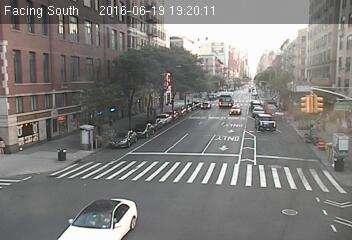neg: (11, 142, 45, 186), (8, 54, 34, 89), (261, 29, 286, 63), (50, 140, 73, 171), (156, 79, 179, 110), (56, 73, 79, 102), (197, 103, 219, 133), (257, 117, 279, 146), (242, 83, 264, 112), (300, 93, 320, 120), (217, 188, 237, 215), (134, 169, 154, 195), (327, 151, 346, 177), (304, 43, 322, 68), (300, 135, 318, 159), (96, 195, 114, 218), (196, 155, 213, 178), (120, 60, 136, 82), (83, 127, 99, 148), (231, 49, 247, 70), (124, 117, 139, 137), (275, 200, 290, 219)
